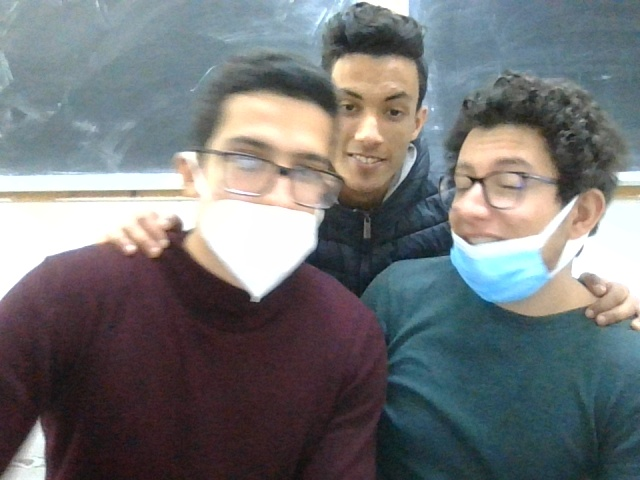mask_weared_incorrect: (447, 85, 606, 304)
without_mask: (313, 13, 438, 186)
